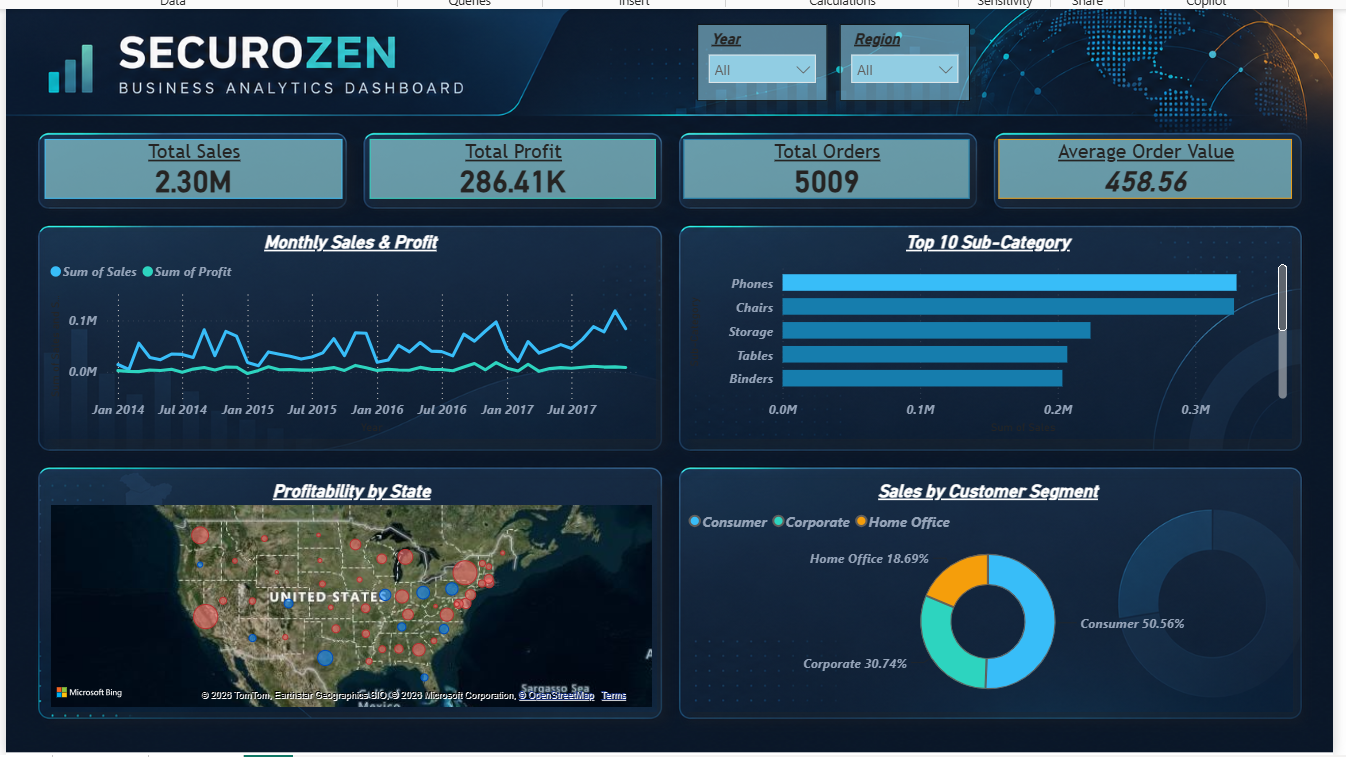

What the dashboard file says about the page in this screenshot:
{"tool":"powerbi","page":{"name":"Page 1","canvas":[1280,720],"ordinal":0},"visuals":[{"type":"card","title":"Total Sales","fields":{"Values":["Sum(Cleaned_Superstore_Sales.Sales)"]},"box":[37.4,125.5,287.1,57.9],"z":0},{"type":"card","title":"Total Profit","fields":{"Values":["Sum(Cleaned_Superstore_Sales.Profit)"]},"box":[351.1,125.5,276.3,57.9],"z":1000},{"type":"card","title":"Total Orders","fields":{"Values":["Cleaned_Superstore_Sales.Total Orders"]},"box":[653.9,125.5,276.3,57.9],"z":2000},{"type":"card","title":"Average Order Value","fields":{"Values":["Cleaned_Superstore_Sales.AOV"]},"box":[957.9,125.5,283.5,57.9],"z":3000},{"type":"slicer","fields":{"Values":["Cleaned_Superstore_Sales.Ship Date.Variation.Date Hierarchy.Year"]},"box":[667.2,14.5,125.5,74.8],"z":4000},{"type":"lineChart","title":"Monthly Sales & Profit","fields":{"Y":["Sum(Cleaned_Superstore_Sales.Sales)","Sum(Cleaned_Superstore_Sales.Profit)"],"Category":["Cleaned_Superstore_Sales.Order Date.Variation.Date Hierarchy.Year","Cleaned_Superstore_Sales.Order Date.Variation.Date Hierarchy.Month"]},"box":[37.4,214.7,589.9,200.3],"z":5000},{"type":"clusteredBarChart","title":"Top 10  Sub-Category","fields":{"Category":["Cleaned_Superstore_Sales.Sub-Category"],"Y":["Sum(Cleaned_Superstore_Sales.Sales)"]},"box":[653.9,214.7,587.5,200.3],"z":6000},{"type":"map","title":"Profitability by State","fields":{"Category":["Cleaned_Superstore_Sales.State"],"Size":["Sum(Cleaned_Superstore_Sales.Profit)"]},"box":[38.6,454.8,589.9,224.4],"z":7000},{"type":"donutChart","title":" Sales by  Customer Segment","fields":{"Category":["Cleaned_Superstore_Sales.Segment"],"Y":["Sum(Cleaned_Superstore_Sales.Sales)"]},"box":[654,455,588,224],"z":8000},{"type":"slicer","fields":{"Values":["Cleaned_Superstore_Sales.Region"]},"box":[804.7,14.5,125.5,74.8],"z":9000}]}

Visuals, with their boxes on the page's 1280x720 design canvas (x1, y1, x2, y2). These are canvas units, not pixel positions in the 1346x757 screenshot, which may show the page scaled, cropped or inside an application window:
"Total Sales" card: x1=37 y1=126 x2=324 y2=183
"Total Profit" card: x1=351 y1=126 x2=627 y2=183
"Total Orders" card: x1=654 y1=126 x2=930 y2=183
"Average Order Value" card: x1=958 y1=126 x2=1241 y2=183
slicer - Cleaned_Superstore_Sales.Ship Date.Variation.Date Hierarchy.Year: x1=667 y1=14 x2=793 y2=89
"Monthly Sales & Profit" lineChart: x1=37 y1=215 x2=627 y2=415
"Top 10  Sub-Category" clusteredBarChart: x1=654 y1=215 x2=1241 y2=415
"Profitability by State" map: x1=39 y1=455 x2=628 y2=679
" Sales by  Customer Segment" donutChart: x1=654 y1=455 x2=1242 y2=679
slicer - Cleaned_Superstore_Sales.Region: x1=805 y1=14 x2=930 y2=89
